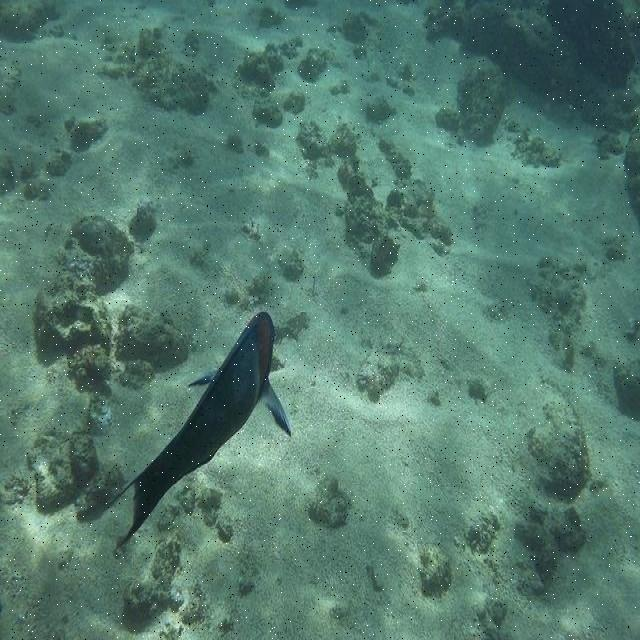fish: (111, 313, 288, 547)
sea-floor: (30, 213, 191, 400), (424, 1, 639, 128)
